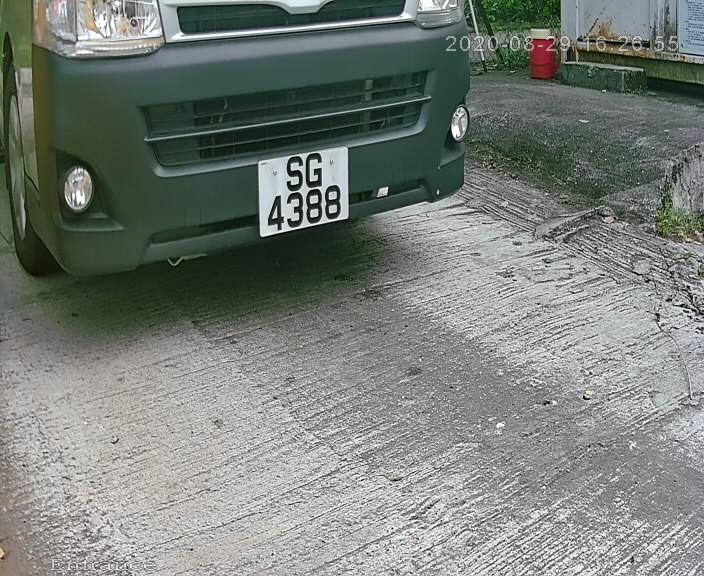Car: (7, 8, 535, 345)
License Plate: (249, 142, 359, 237)
